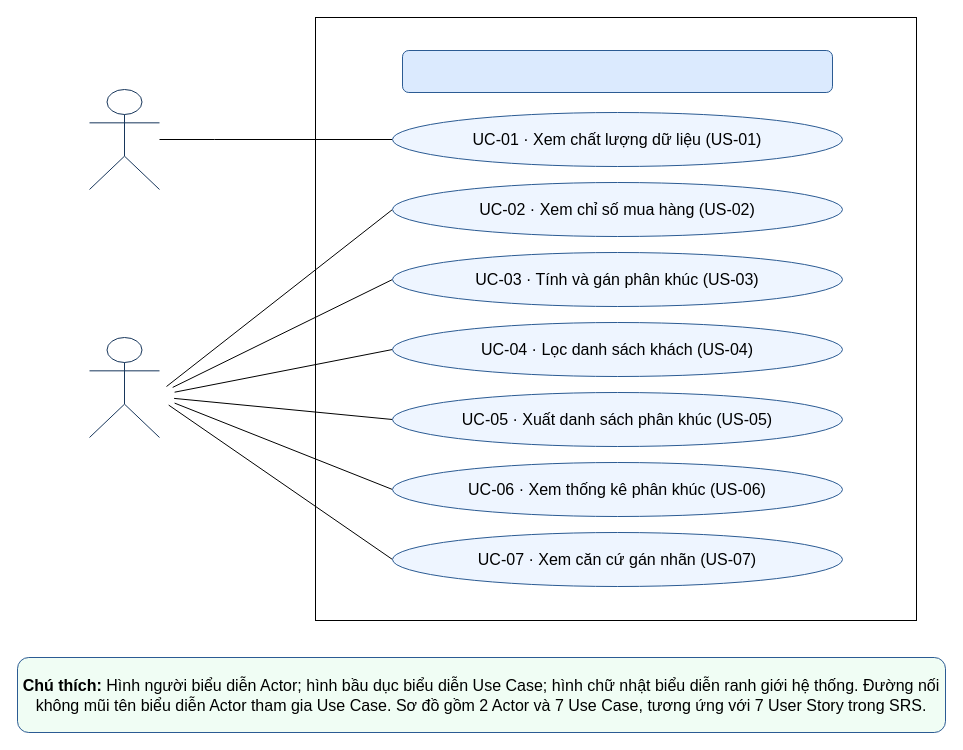
The diagram is 963 pixels wide and 750 high, and some of its shapes have lost their labels. The shapes that lost their labels are listed below. From the top down, each one's centre as x and y in pixels, then its label:
At (617,71): "HỆ THỐNG PHÂN KHÚC KHÁCH HÀNG".
At (124,139): "Người phân tích dữ liệu".
At (124,387): "Nhân viên Marketing".
